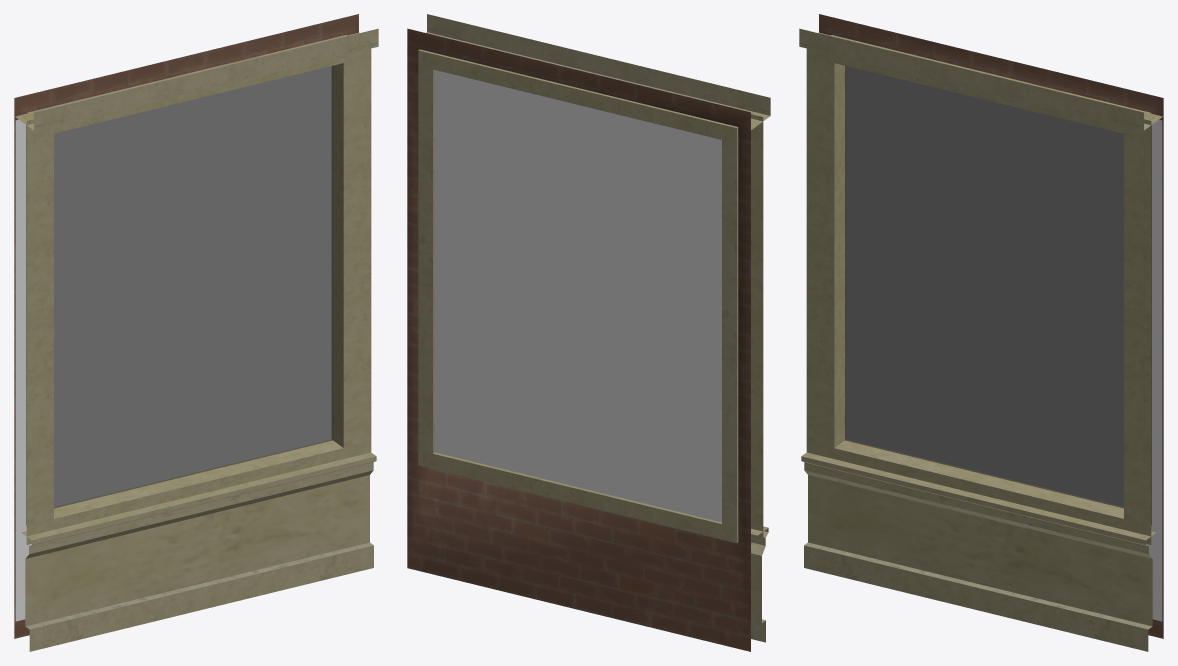
The model's file is trim_firstfloor_window_001.glb.
3 renders of one model, left to right at view 1: azimuth 30°, elevation 25°; view 2: azimuth 150°, elevation 25°; view 3: azimuth 330°, elevation 25°, orthographic.
Parts seen in each view (by area): view 1: Trim_FirstFloor_Window.001; view 2: Trim_FirstFloor_Window.001; view 3: Trim_FirstFloor_Window.001.
Part boxes in pixels (x1,y1,x2,y2): Trim_FirstFloor_Window.001: (14,14,378,651); Trim_FirstFloor_Window.001: (407,14,770,651); Trim_FirstFloor_Window.001: (799,14,1163,651).
Bounding box in the file's own units: 2 × 3.01 × 0.2151.
4 materials, 2 textured.
